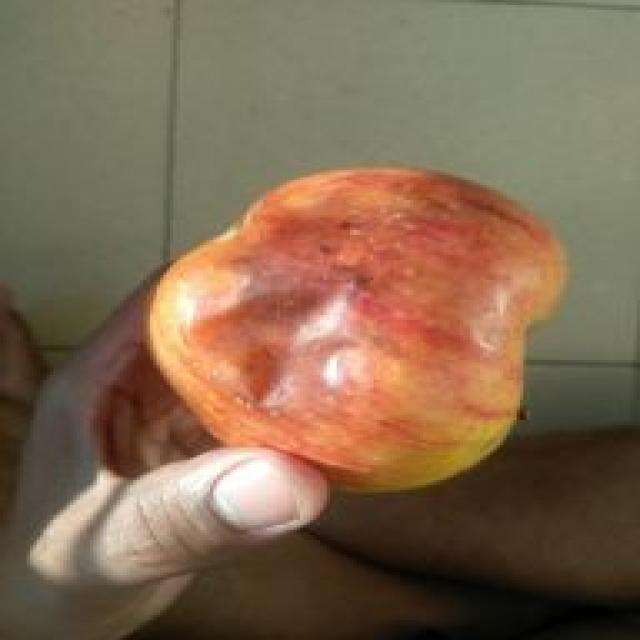Bad_Apple: (148, 168, 565, 489)
